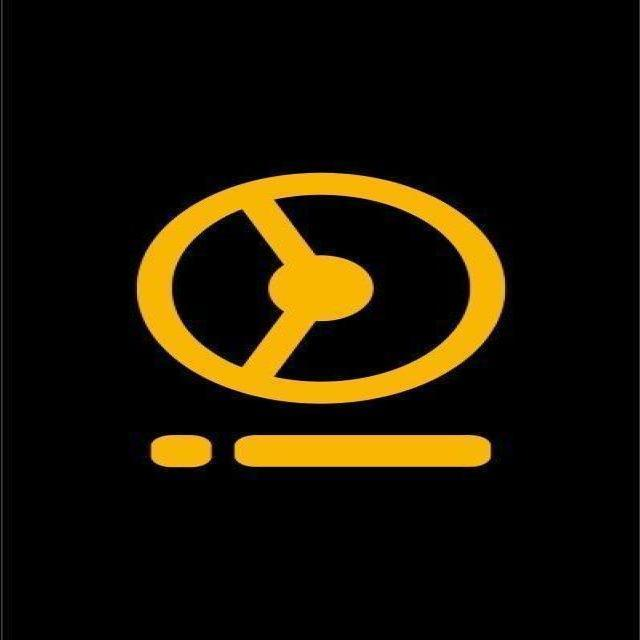Electronic Power Steering: (135, 169, 506, 469)
